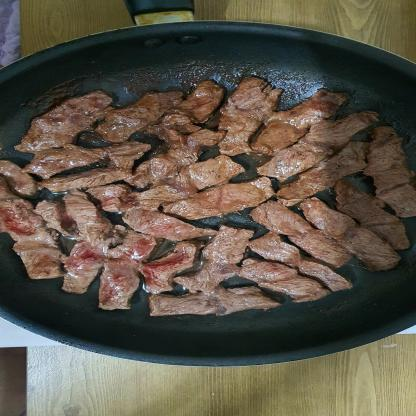Carne: (248, 109, 382, 182), (244, 201, 374, 269), (297, 200, 415, 267), (1, 85, 121, 148), (266, 140, 378, 198), (250, 237, 368, 292), (142, 177, 273, 224), (334, 179, 416, 253), (256, 82, 331, 157), (184, 266, 336, 303), (354, 125, 416, 215), (212, 75, 276, 156), (97, 84, 182, 138), (103, 226, 150, 311), (0, 191, 68, 244), (147, 103, 224, 144), (138, 142, 196, 193), (117, 210, 211, 241), (151, 239, 201, 297), (184, 151, 253, 191), (62, 238, 112, 293), (60, 195, 107, 247), (4, 242, 71, 278), (33, 172, 152, 192), (138, 296, 235, 320), (29, 143, 108, 171), (201, 226, 254, 266), (0, 165, 50, 198), (104, 141, 152, 173), (98, 189, 141, 213)
